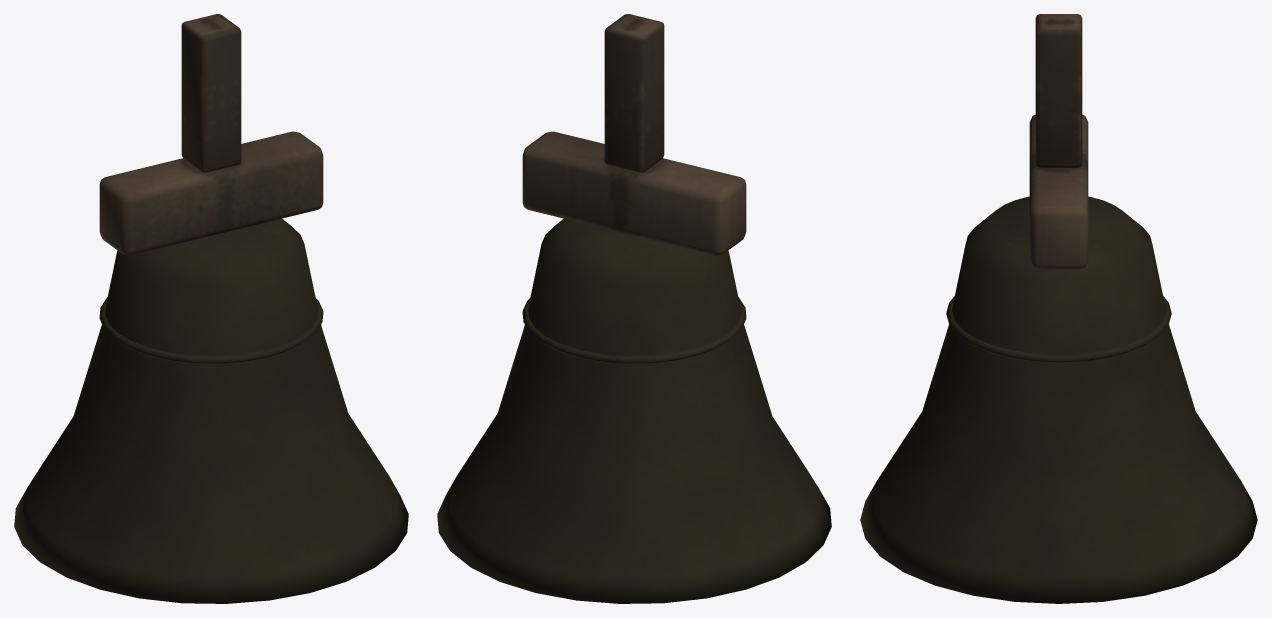
The model's file is crypt_bell.obj.
3 renders of one model, left to right at view 1: azimuth 30°, elevation 25°; view 2: azimuth 150°, elevation 25°; view 3: azimuth 270°, elevation 25°, orthographic.
Visible parts, largest first — view 1: part0, part1; view 2: part0, part1; view 3: part0, part1.
Part boxes in pixels (bbox=[...]): part0: bbox=[14, 218, 408, 603]; part1: bbox=[99, 14, 323, 255]; part0: bbox=[437, 218, 831, 603]; part1: bbox=[522, 14, 746, 255]; part0: bbox=[860, 196, 1257, 603]; part1: bbox=[1029, 14, 1088, 269].
Bounding box in the file's own units: 0.68 × 0.94 × 0.68.
